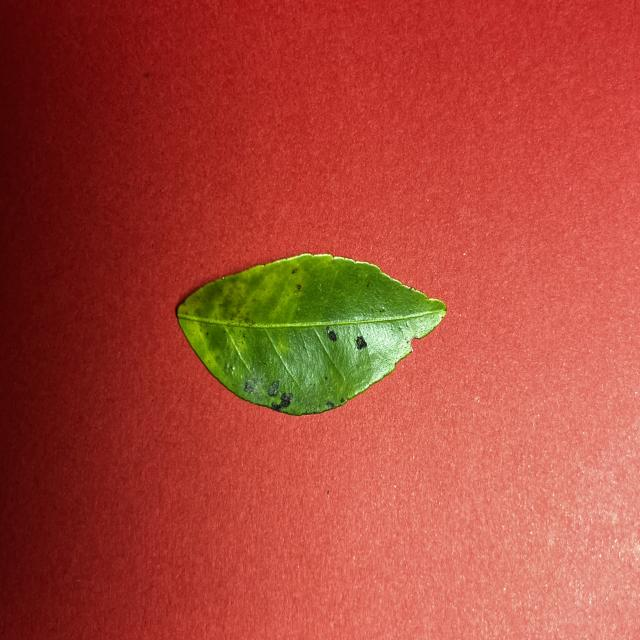sooty_mold: (177, 254, 446, 415)
